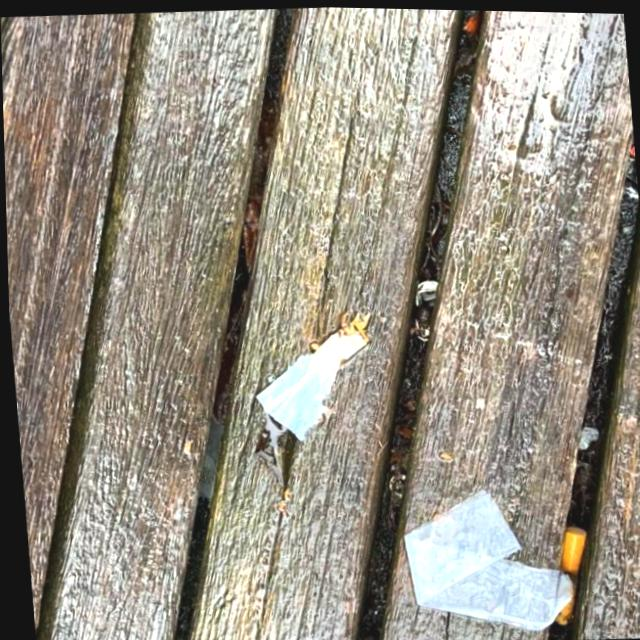Paper: (393, 477, 573, 639), (242, 301, 379, 446)
